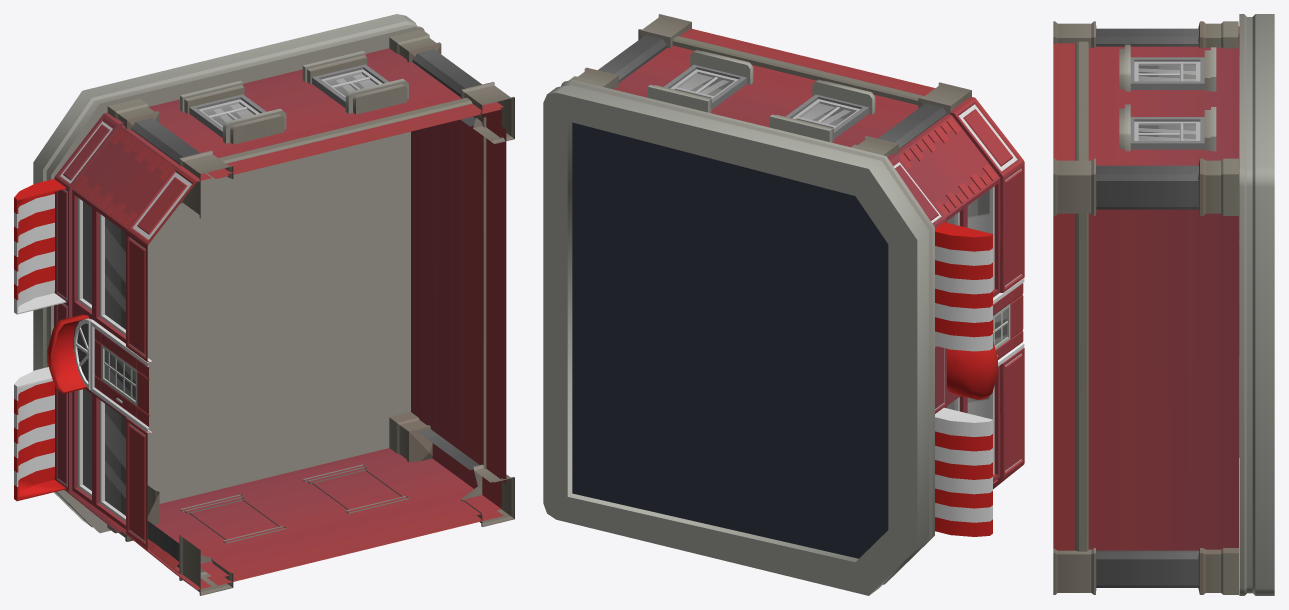
File: Building_3_1_F.fbx
3 views of the same model, side by side, from view 1: azimuth 30°, elevation 25°; view 2: azimuth 150°, elevation 25°; view 3: azimuth 270°, elevation 25° (orthographic).
Parts seen in each view (by area): view 1: Building 3_1_F; view 2: Building 3_1_F; view 3: Building 3_1_F.
Boxes of the visible parts, left/top/right/bottom form: Building 3_1_F: left=14, top=14, right=514, bottom=595; Building 3_1_F: left=543, top=14, right=1024, bottom=595; Building 3_1_F: left=1053, top=14, right=1274, bottom=595.
Bounding box in the file's own units: 820 × 812 × 373.
